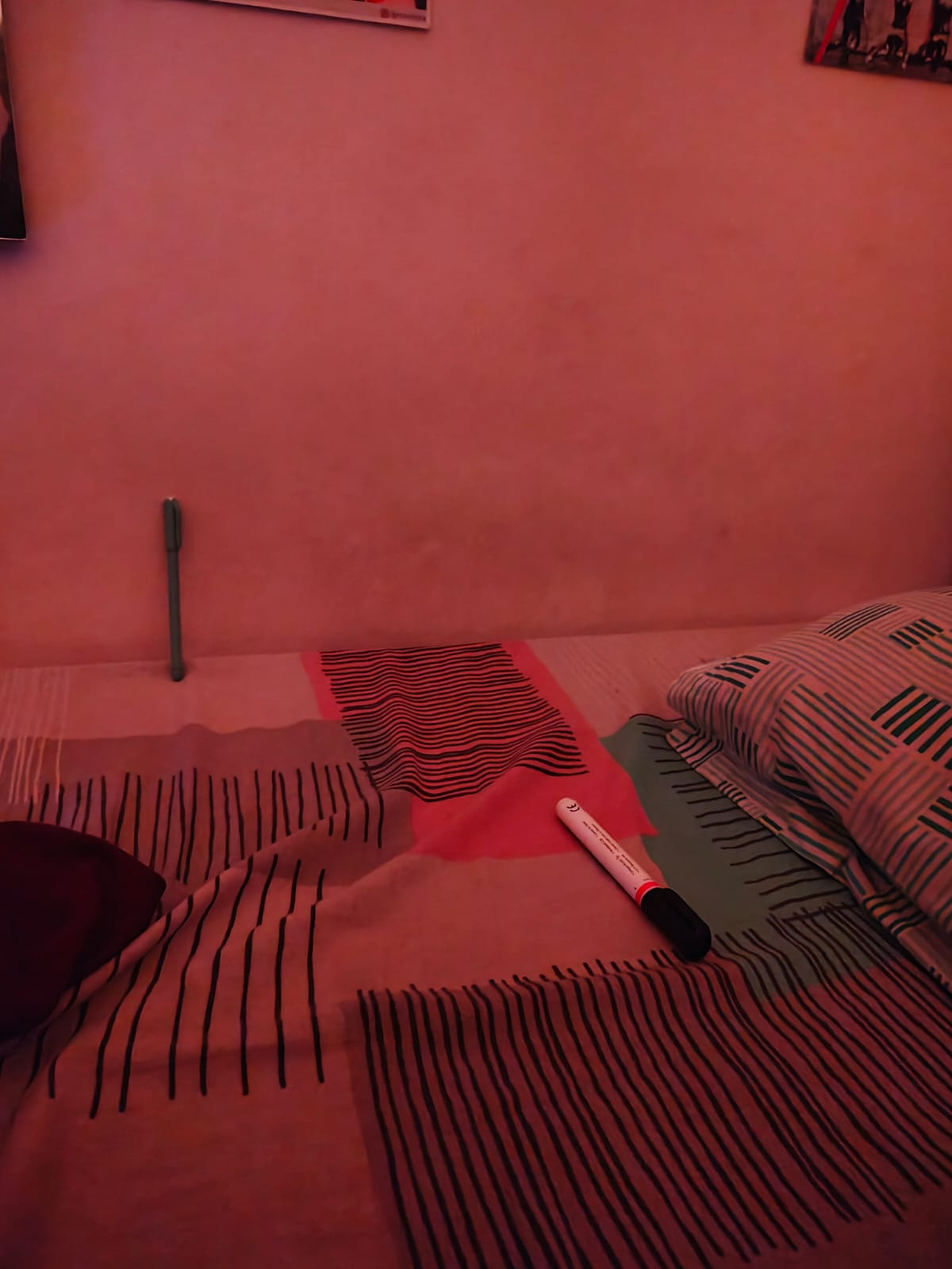case: (547, 783, 725, 966)
pen: (161, 489, 200, 688)
